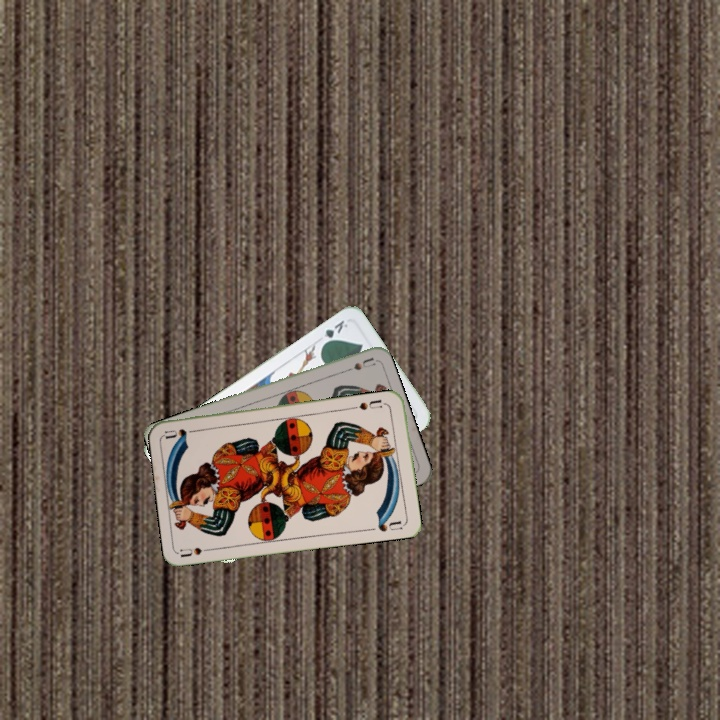GK: (318, 316, 350, 348)
SU: (337, 354, 377, 376), (177, 543, 218, 559), (349, 395, 384, 413)
